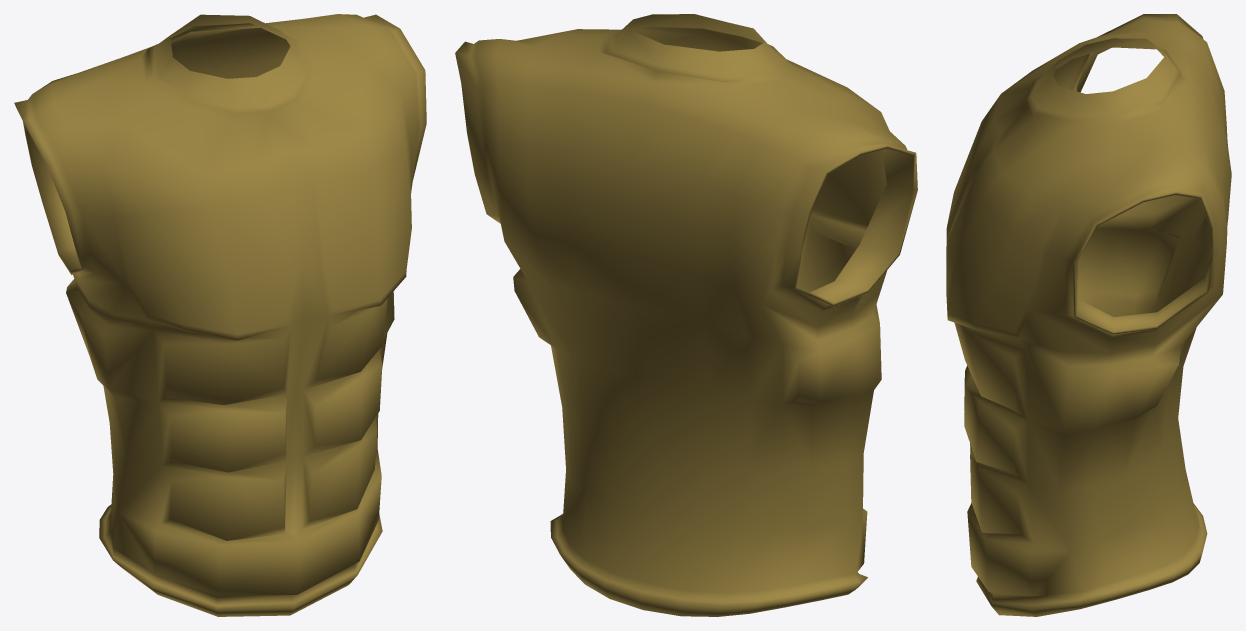
Rendered from WhyNot_RTS_suit.fbx.
The picture shows the model from 3 angles, left to right: view 1: azimuth 30°, elevation 25°; view 2: azimuth 150°, elevation 25°; view 3: azimuth 270°, elevation 25°; orthographic projection. The views are drawn at different scales.
Visible parts, largest first — view 1: BASE_Low___Poly___Man.001; view 2: BASE_Low___Poly___Man.001; view 3: BASE_Low___Poly___Man.001.
Part boxes in pixels (x1,y1,x2,y2): BASE_Low___Poly___Man.001: [14, 14, 426, 616]; BASE_Low___Poly___Man.001: [455, 14, 917, 616]; BASE_Low___Poly___Man.001: [946, 14, 1231, 616].
Bounding box in the file's own units: 149 × 201 × 96.68.
